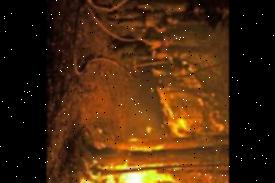fire: (59, 158, 181, 183), (152, 87, 194, 140)
